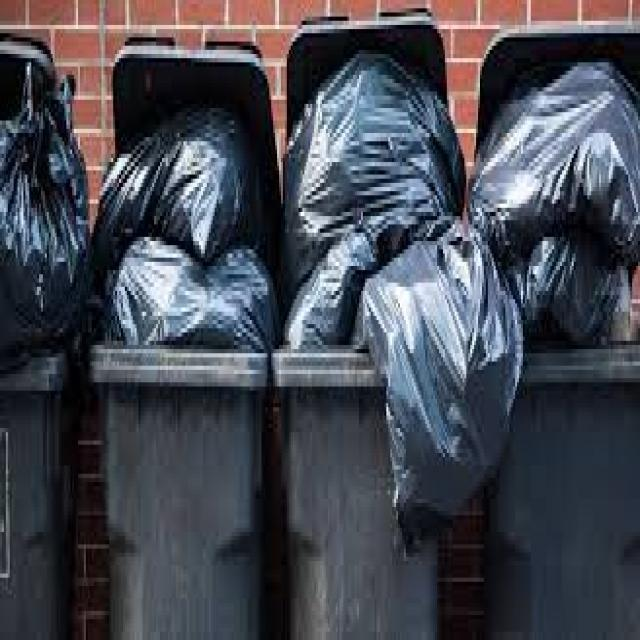garbage: (2, 83, 638, 374)
